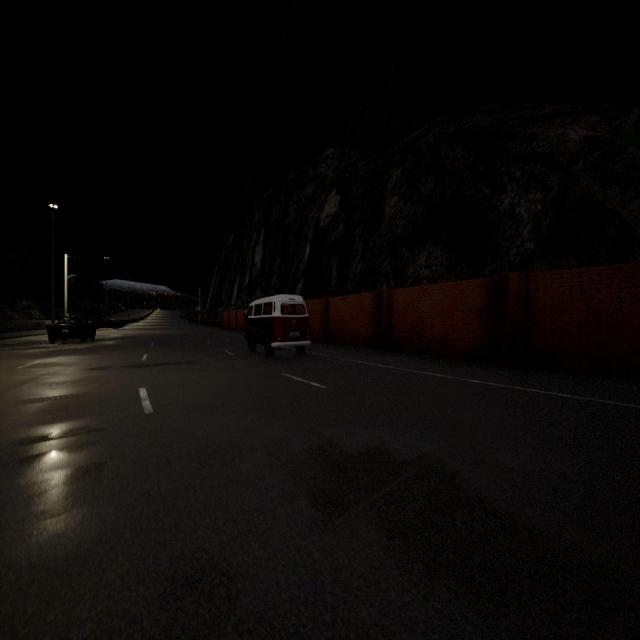Vehicle: (244, 294, 310, 356), (48, 316, 96, 345)
traffic_light: (153, 291, 156, 295), (198, 308, 200, 313), (165, 292, 167, 295), (178, 293, 180, 296)
